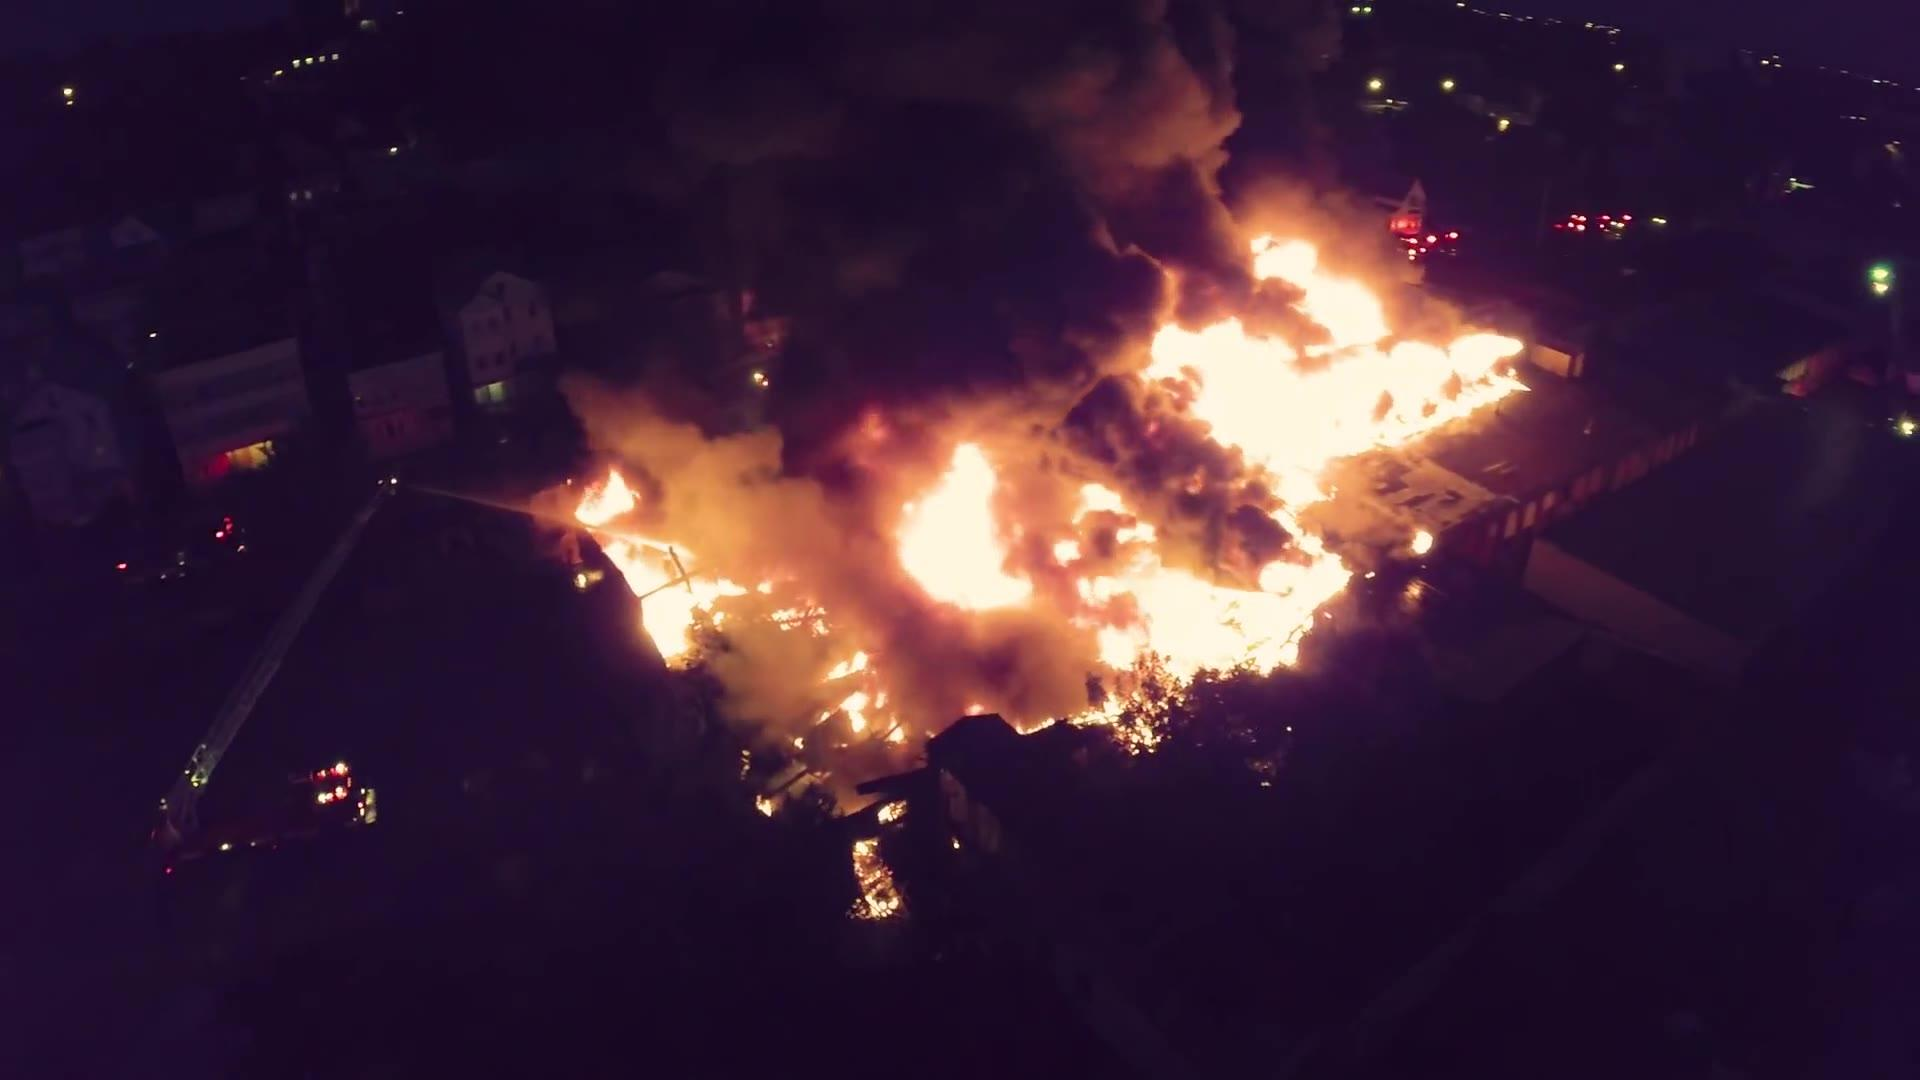fire: (1158, 320, 1476, 444), (1096, 562, 1327, 678), (906, 464, 1000, 607), (624, 542, 698, 644)
